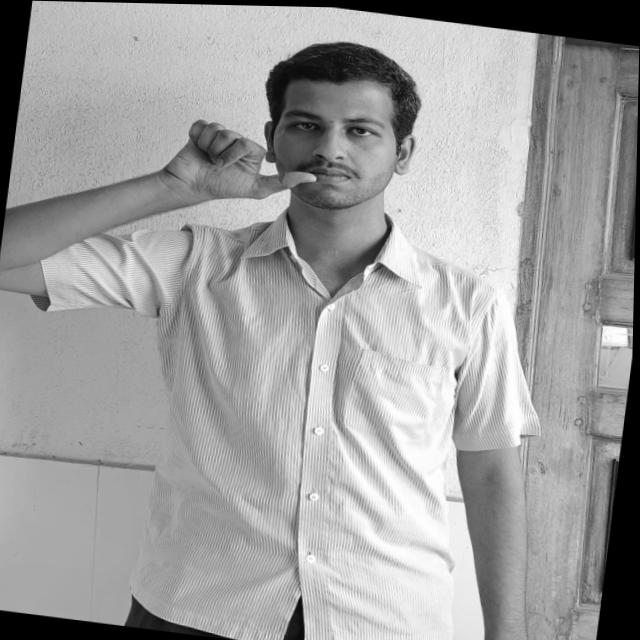Drink: (157, 111, 327, 217)
